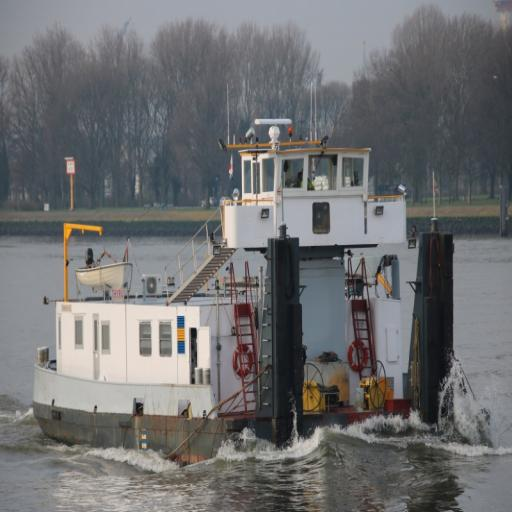tugboat: (31, 117, 463, 477)
